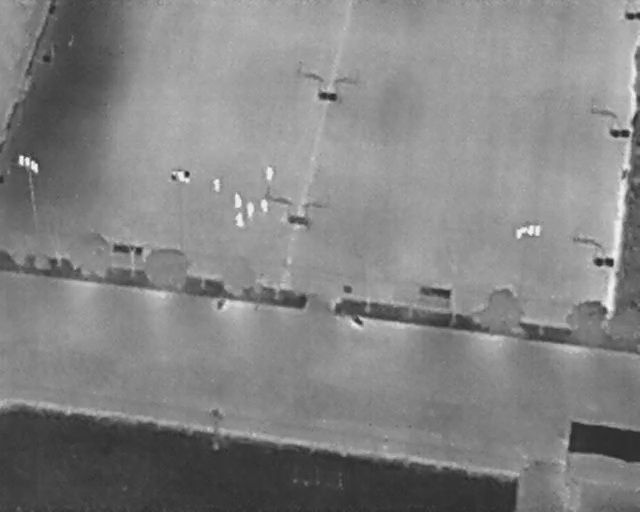Person: (246, 201, 255, 219), (212, 176, 221, 193), (233, 191, 242, 208), (235, 211, 245, 226), (265, 165, 274, 181), (260, 197, 269, 213)
